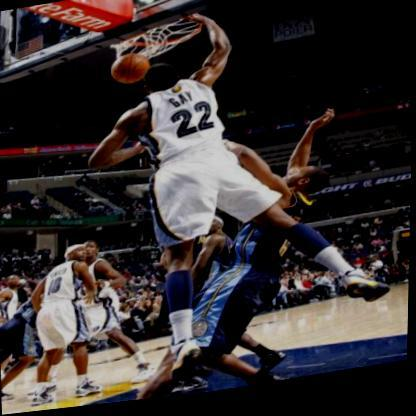basketball: (110, 54, 152, 90)
